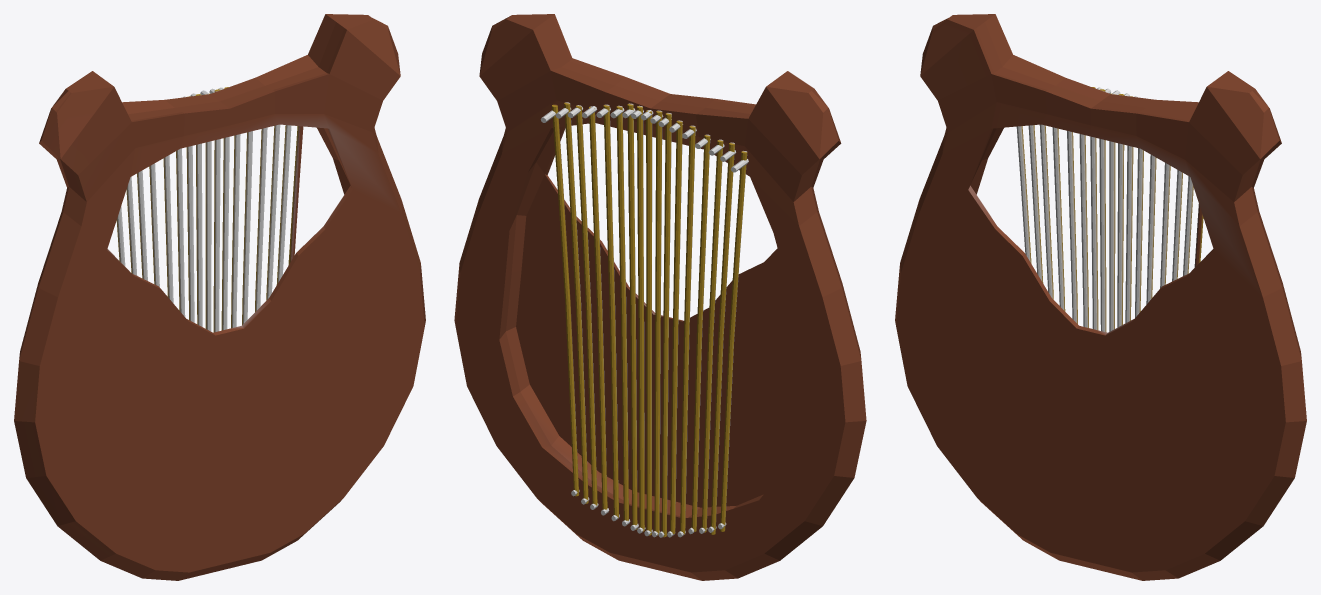
Rendered from Golden Harp.fbx.
3 renders of one model, left to right at view 1: azimuth 30°, elevation 25°; view 2: azimuth 150°, elevation 25°; view 3: azimuth 330°, elevation 25°, orthographic.
Parts seen in each view (by area): view 1: Harp; view 2: Harp; view 3: Harp.
Part boxes in pixels (left/top/right/bottom): Harp: left=14, top=14, right=425, bottom=580; Harp: left=454, top=14, right=866, bottom=580; Harp: left=895, top=14, right=1306, bottom=580.
Size of the model in its own units: 79.52 by 95.97 by 11.07.
